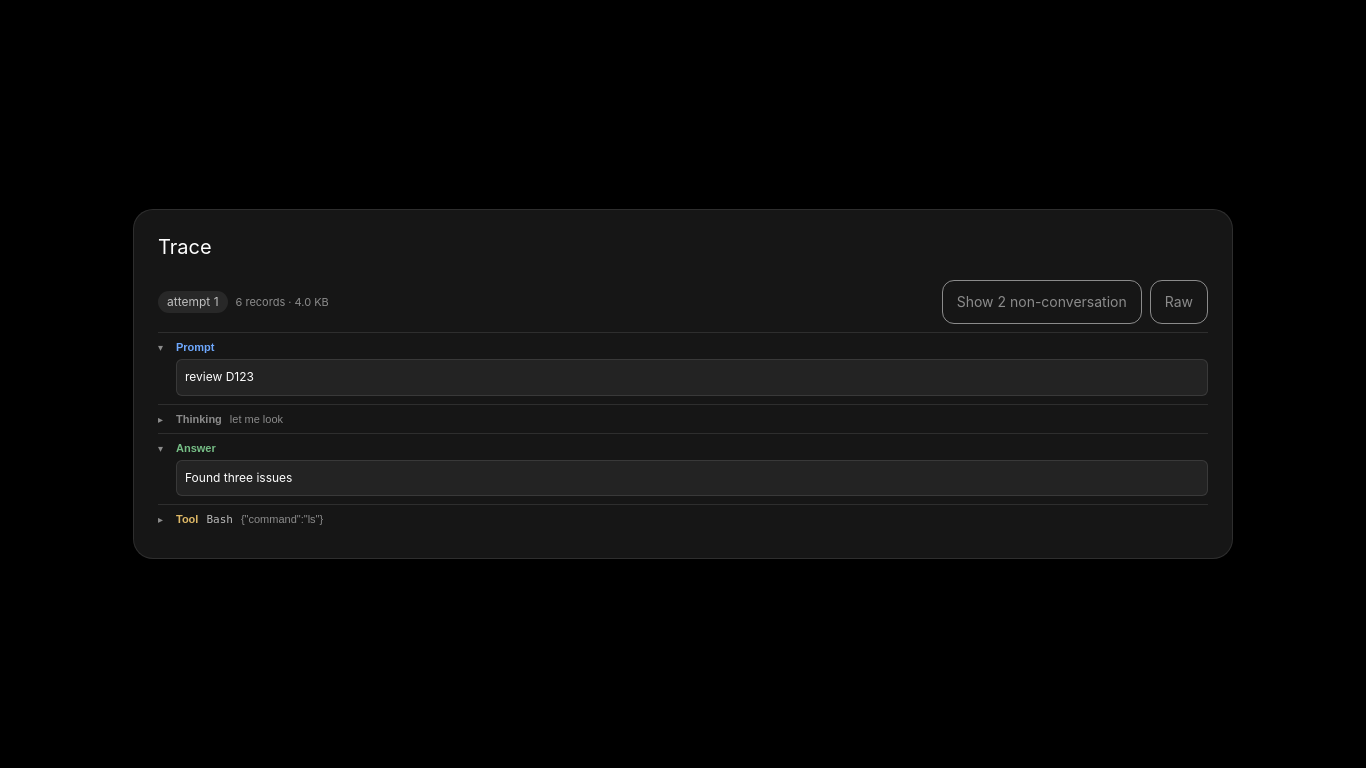
Test: TraceModal › fetches the raw form only when raw is asked for
Expected: the text "review D123" is shown, [185,369,254,384]
What coordinates should you click on to do the following:
click the button "Raw"
I would click on:
 (1179, 302)
Its box is [1150,280,1208,324].
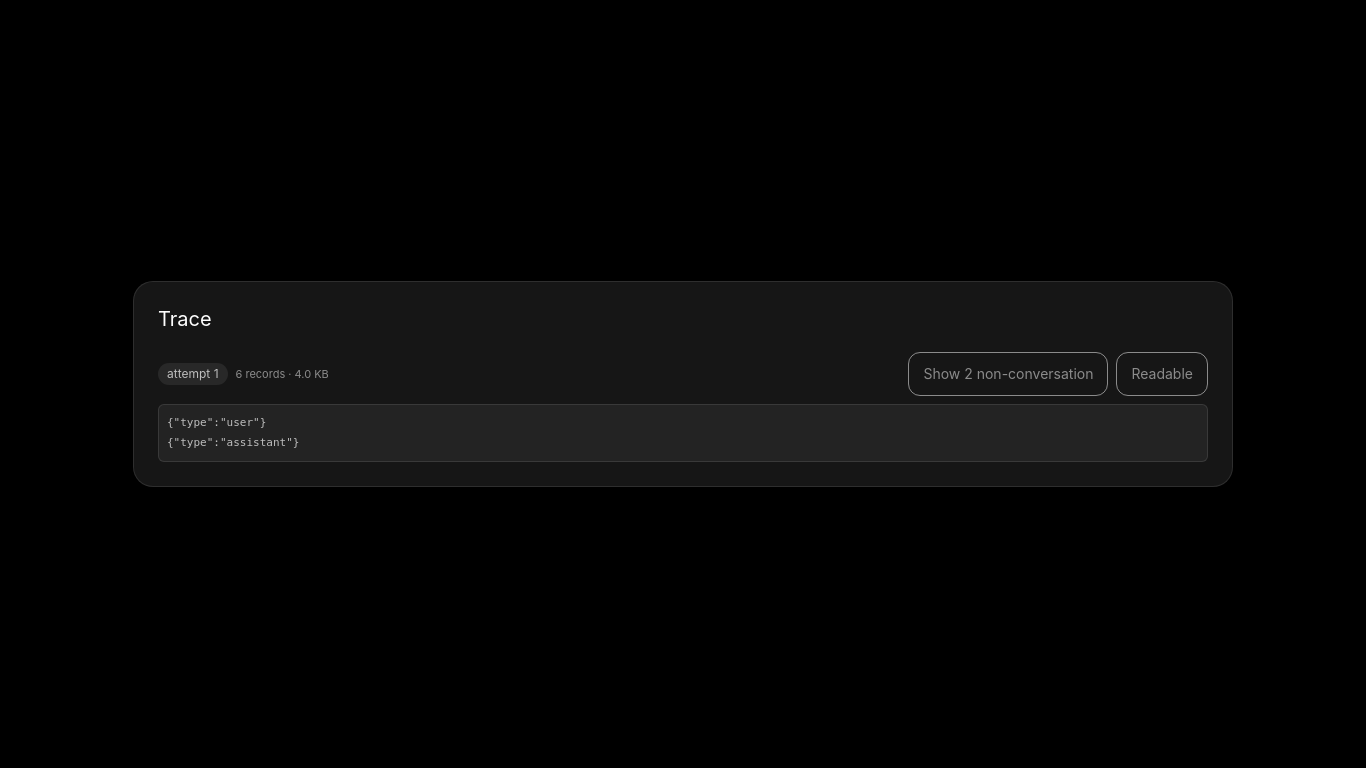
Expected: the text "{\"type\":\"user\"} {\"type\":\"assistant\"}" is shown, [158,404,1208,462]
